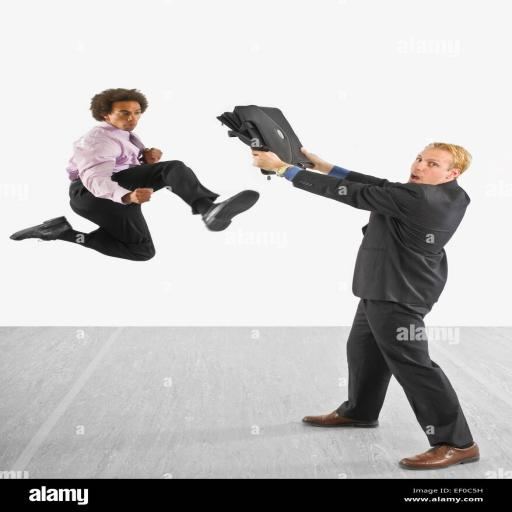fight: (0, 69, 510, 407)
